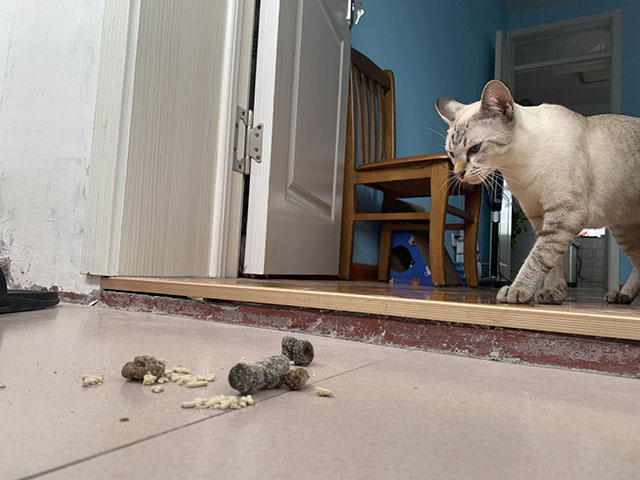feces: (227, 334, 317, 397), (121, 354, 167, 382)
slippers: (1, 268, 60, 314)
stool: (339, 43, 482, 289)
wire: (480, 234, 513, 284)
